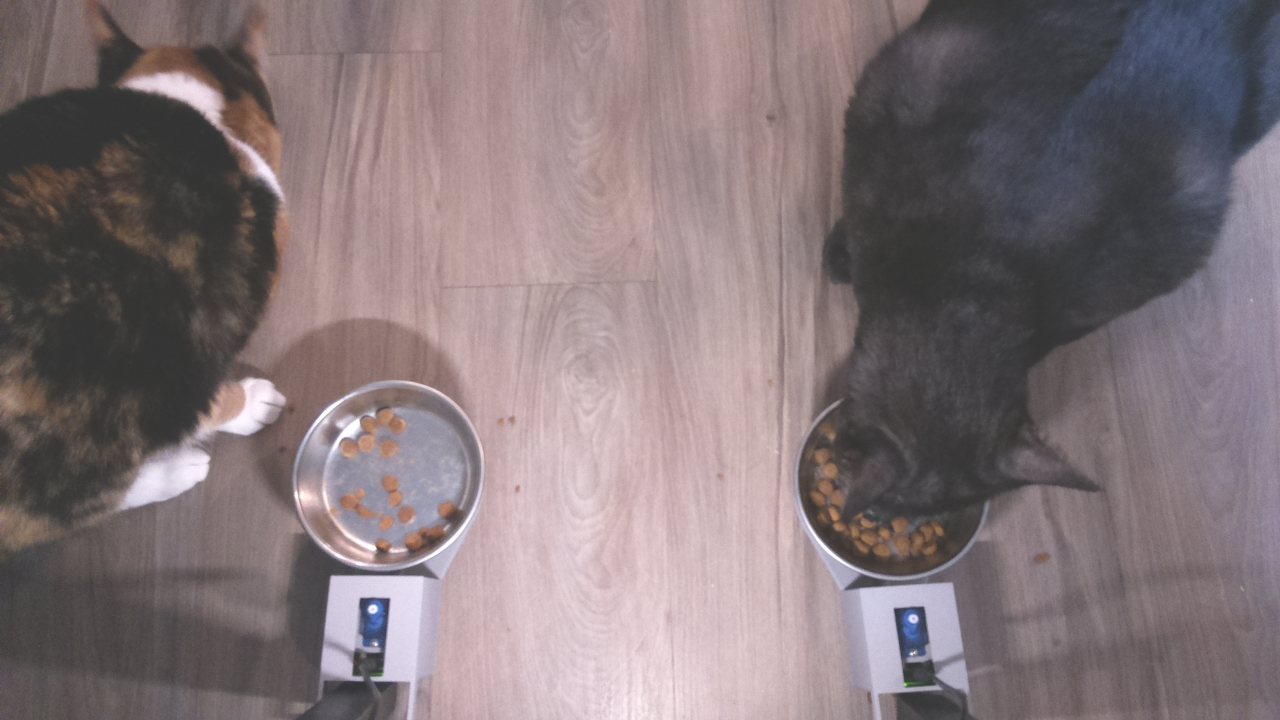bella: (55, 1, 308, 189)
open_bowl: (287, 372, 489, 577)
saki_eating: (790, 319, 1100, 589)
